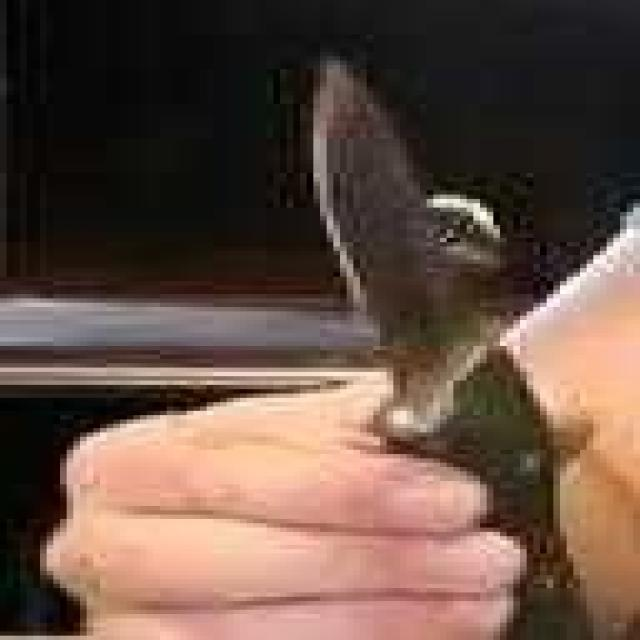weapon: (302, 51, 611, 640)
